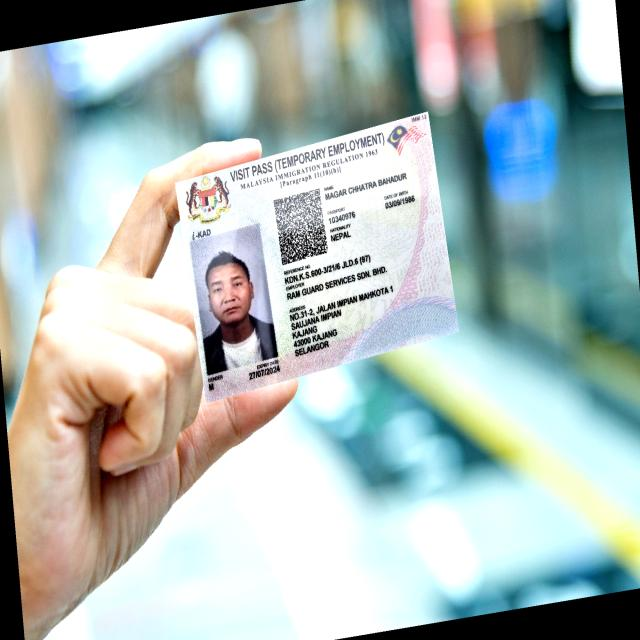ikad-temp: (174, 110, 459, 404)
